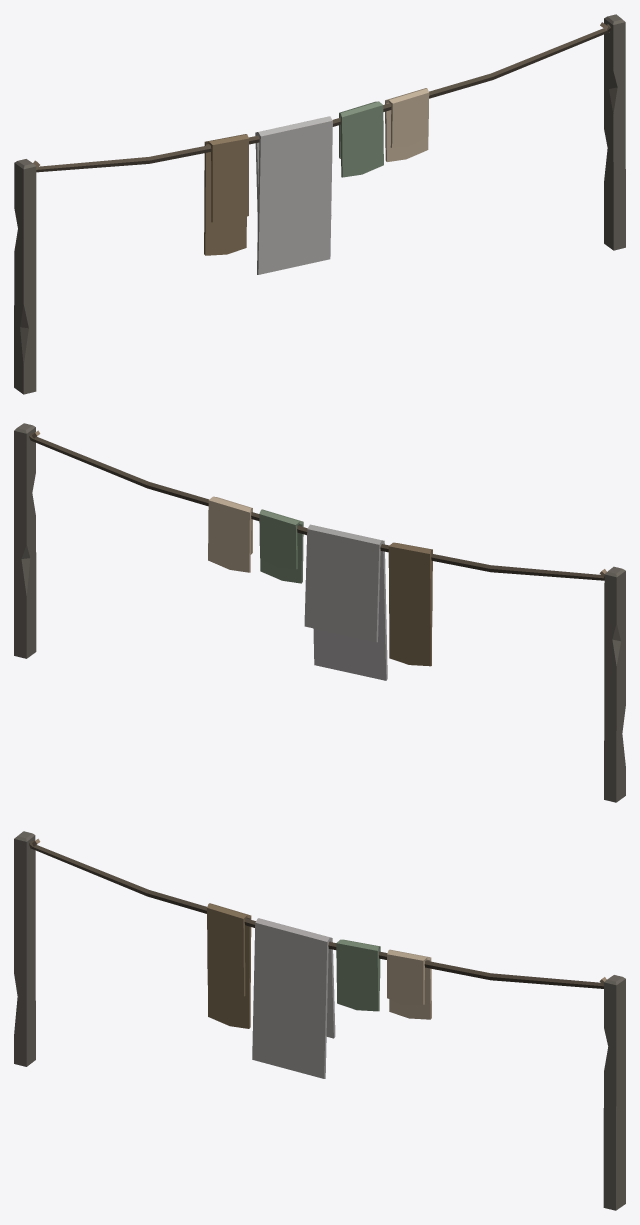
File: SM_Prop_Washingline_03.fbx
3 renders of one model, top to bottom at view 1: azimuth 30°, elevation 25°; view 2: azimuth 150°, elevation 25°; view 3: azimuth 330°, elevation 25°, orthographic.
Visible parts, largest first — view 1: SM_Prop_Washingline_03, SM_Prop_Washingline_Poles_03; view 2: SM_Prop_Washingline_03, SM_Prop_Washingline_Poles_03; view 3: SM_Prop_Washingline_03, SM_Prop_Washingline_Poles_03.
Part boxes in pixels (x1=…): SM_Prop_Washingline_03: x1=33, y1=22, x2=610, y2=274; SM_Prop_Washingline_Poles_03: x1=14, y1=14, x2=625, y2=394; SM_Prop_Washingline_03: x1=29, y1=430, x2=606, y2=680; SM_Prop_Washingline_Poles_03: x1=14, y1=423, x2=625, y2=802; SM_Prop_Washingline_03: x1=29, y1=838, x2=606, y2=1078; SM_Prop_Washingline_Poles_03: x1=14, y1=831, x2=625, y2=1210.
Bounding box in the file's own units: 708 × 255 × 19.64.
